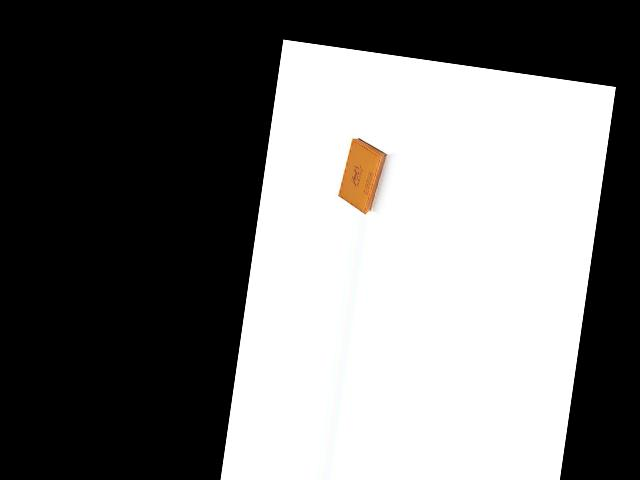chocolate: (334, 134, 394, 216)
